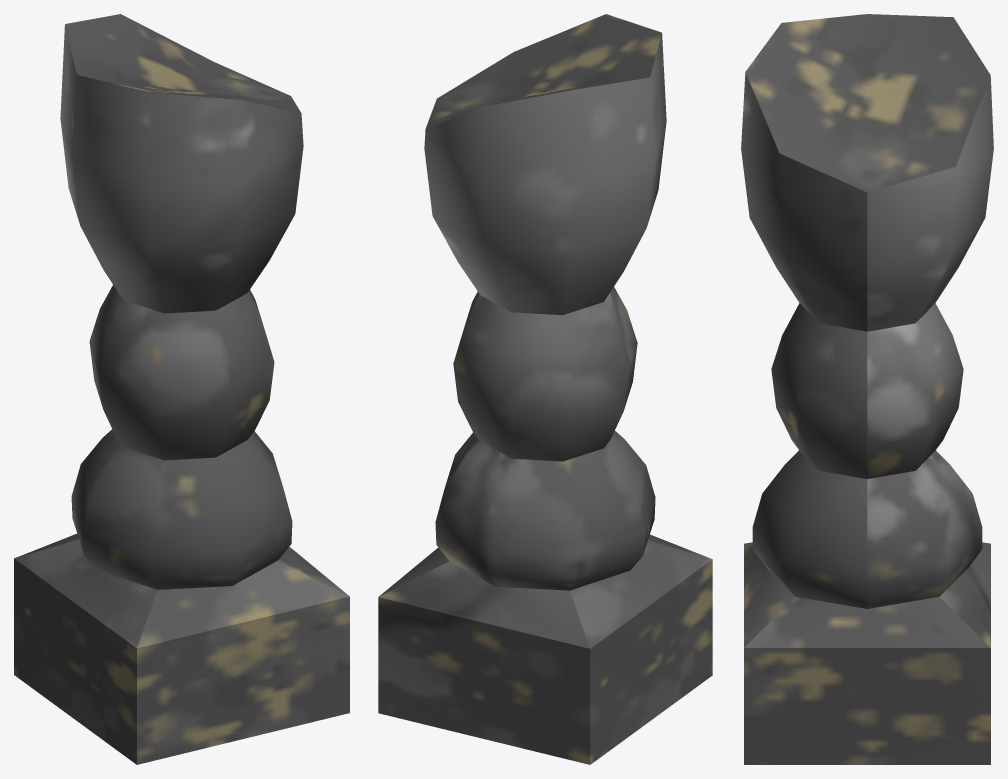
Rendered from Broken_Railing_6_FINAL.fbx.
3 views of the same model, side by side, from view 1: azimuth 30°, elevation 25°; view 2: azimuth 150°, elevation 25°; view 3: azimuth 270°, elevation 25° (orthographic).
Visible parts, largest first — view 1: Broken_Railing_6; view 2: Broken_Railing_6; view 3: Broken_Railing_6.
Part boxes in pixels (box(x1,y1,x2,y2)): Broken_Railing_6: box(14, 14, 349, 764); Broken_Railing_6: box(378, 14, 712, 764); Broken_Railing_6: box(741, 14, 993, 764).
Size of the model in its own units: 13.24 by 38.08 by 13.24.
